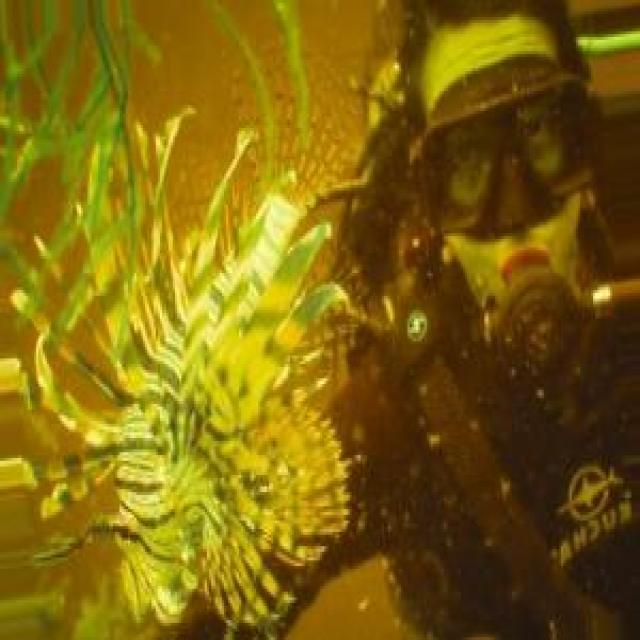Bleached: (1, 1, 353, 640)
